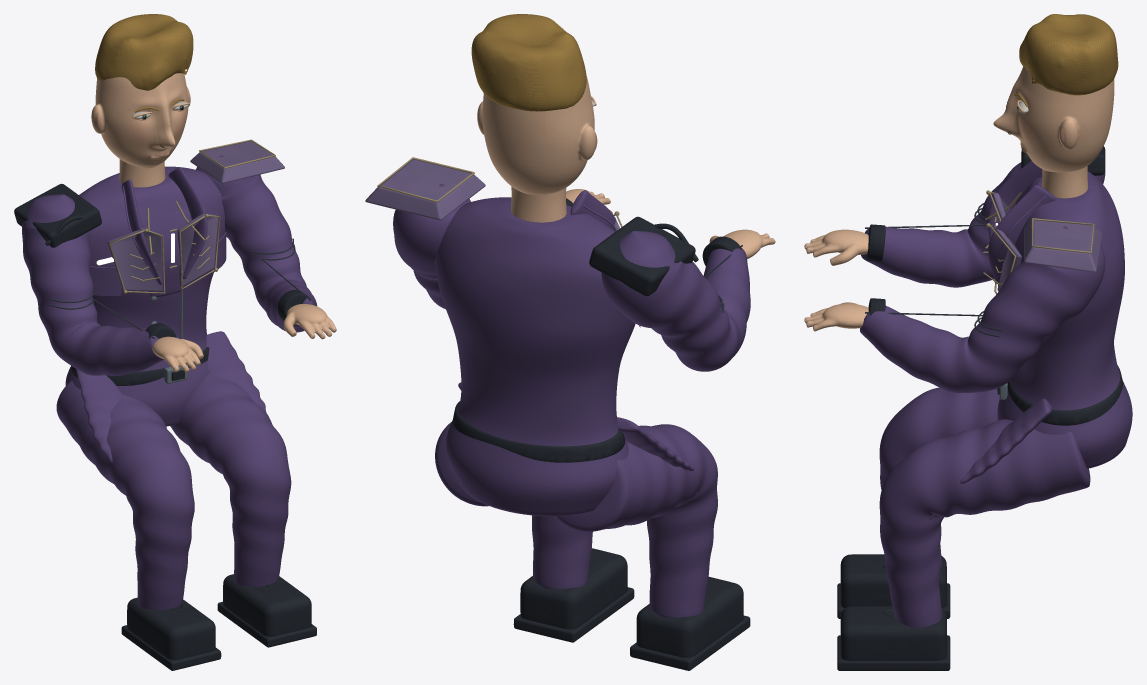
Rendered from navigator.gltf.
3 views of the same model, side by side, from view 1: azimuth 30°, elevation 25°; view 2: azimuth 150°, elevation 25°; view 3: azimuth 270°, elevation 25° (orthographic). The views are drawn at different scales.
Visible parts, largest first — view 1: council-asset-5-navigator_Fabric, council-asset-5-navigator_Leather, Oni Metal tailoring, sculpted-head_Skin, sculpted-head_Hair, council-asset-5-navigator_Skin, Oni Leather tailoring; view 2: council-asset-5-navigator_Fabric, council-asset-5-navigator_Leather, sculpted-head_Hair, sculpted-head_Skin, Oni Metal tailoring, council-asset-5-navigator_Skin; view 3: council-asset-5-navigator_Fabric, council-asset-5-navigator_Leather, sculpted-head_Skin, sculpted-head_Hair, Oni Metal tailoring, council-asset-5-navigator_Skin, Oni Leather tailoring.
Boxes of the visible parts, left/top/right/bottom form: council-asset-5-navigator_Fabric: left=22, top=155, right=317, bottom=609; council-asset-5-navigator_Leather: left=14, top=183, right=316, bottom=670; Oni Metal tailoring: left=107, top=139, right=284, bottom=293; sculpted-head_Skin: left=91, top=73, right=190, bottom=168; sculpted-head_Hair: left=95, top=14, right=193, bottom=90; council-asset-5-navigator_Skin: left=119, top=159, right=336, bottom=372; Oni Leather tailoring: left=48, top=238, right=310, bottom=338; council-asset-5-navigator_Fabric: left=393, top=184, right=750, bottom=617; council-asset-5-navigator_Leather: left=452, top=198, right=750, bottom=670; sculpted-head_Hair: left=471, top=14, right=586, bottom=111; sculpted-head_Skin: left=477, top=76, right=597, bottom=194; Oni Metal tailoring: left=365, top=157, right=622, bottom=230; council-asset-5-navigator_Skin: left=511, top=186, right=775, bottom=259; council-asset-5-navigator_Fabric: left=860, top=160, right=1132, bottom=627; council-asset-5-navigator_Leather: left=837, top=143, right=1123, bottom=670; sculpted-head_Skin: left=993, top=66, right=1114, bottom=172; sculpted-head_Hair: left=1019, top=14, right=1118, bottom=95; Oni Metal tailoring: left=983, top=190, right=1102, bottom=294; council-asset-5-navigator_Skin: left=804, top=166, right=1088, bottom=331; Oni Leather tailoring: left=865, top=203, right=1002, bottom=337.
Size of what is drawn, in the model's own units: 1.01 by 2.09 by 1.02.
7 materials, 5 textured.
